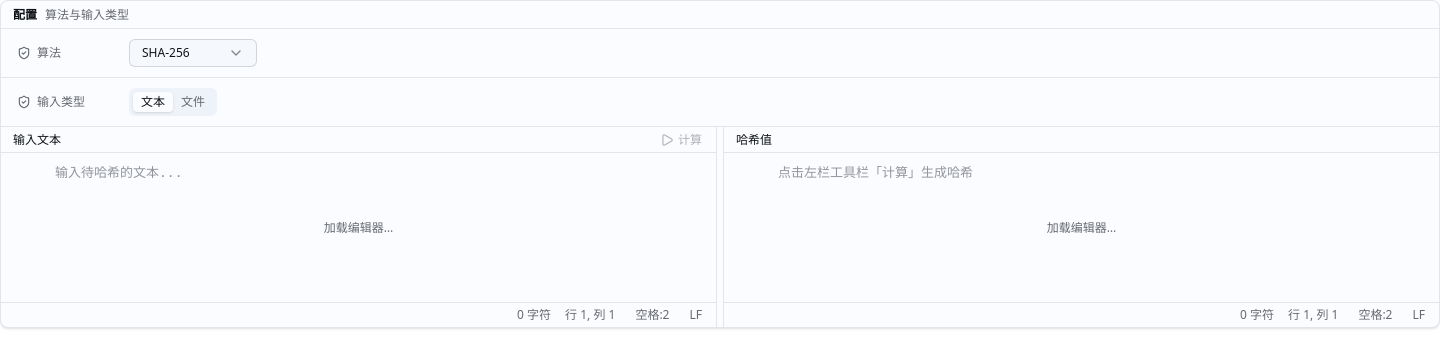
Test: HashCalculator › 流式任务失败展示内联错误
Press the mouse on the tab with test id "hash-mode-file" at (193, 102), box [173,92,213,112]
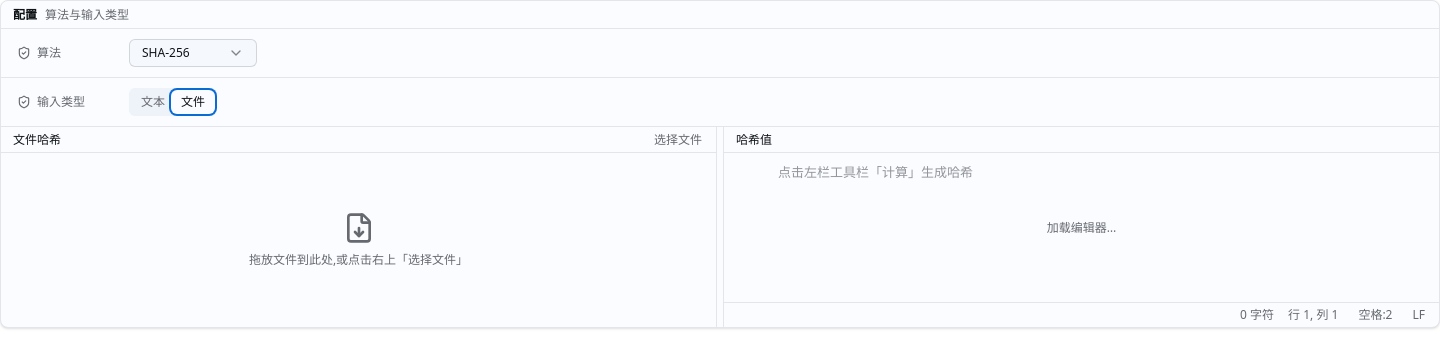
Click the button with test id "hash-open" at (678, 140), box [648,126,708,152]
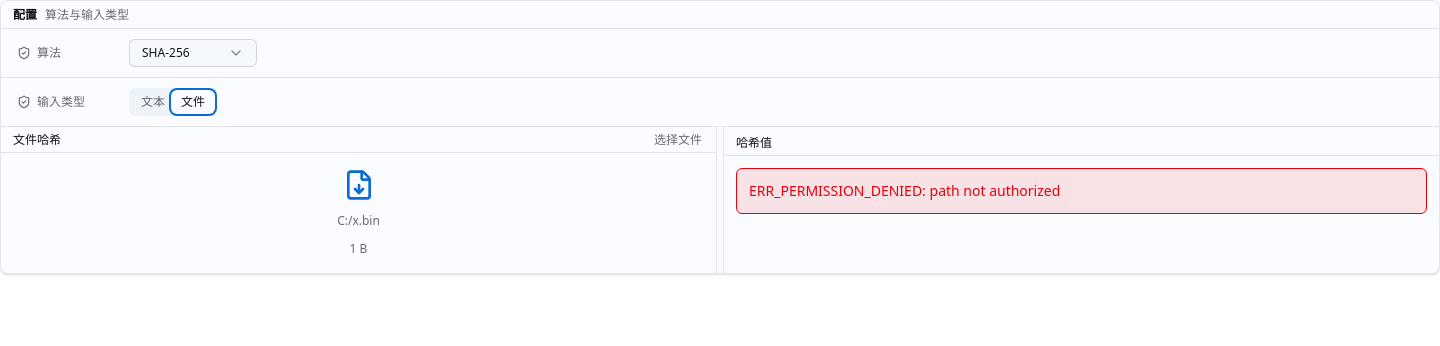
Result: the message with test id "hash-file-error" shows "ERR_PERMISSION_DENIED" at [749,181,1060,200]
